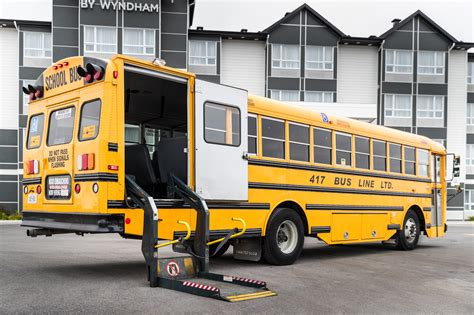bus: (25, 57, 446, 258)
